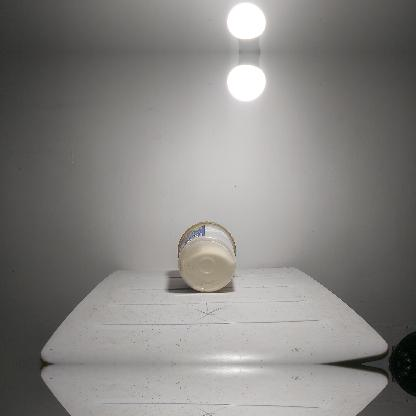Lady-s-Choice: (176, 220, 238, 292)
